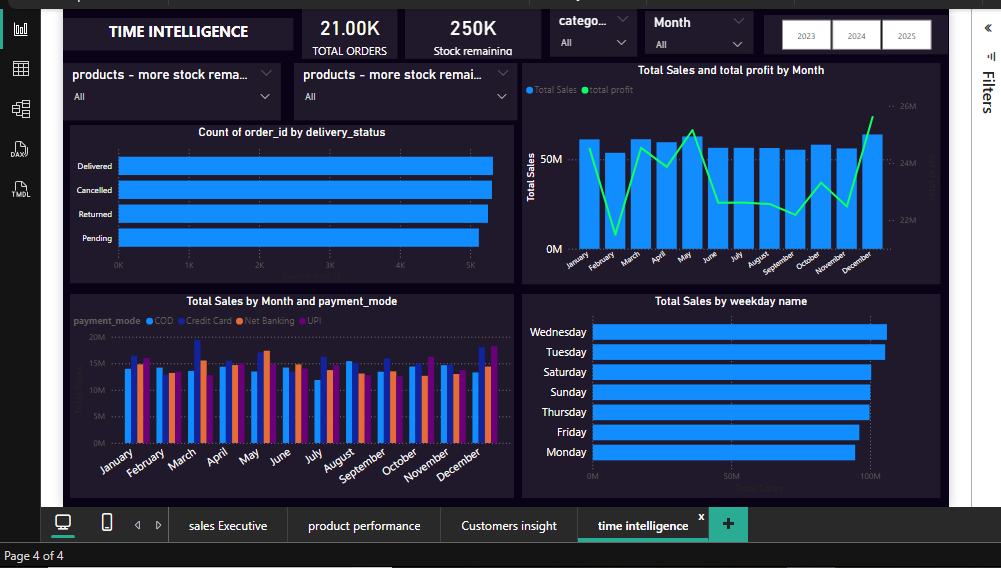

What the dashboard file says about the page in this screenshot:
{"tool":"powerbi","page":{"name":"time intelligence","canvas":[1280,720],"ordinal":3},"visuals":[{"type":"textbox","box":[0,13.5,333.5,47.2],"z":0},{"type":"slicer","fields":{"Values":["orders.order_date.Variation.Date Hierarchy.Year"]},"box":[1013.9,8.4,266.1,57.3],"z":1000},{"type":"lineStackedColumnComboChart","fields":{"Category":["orders.order_date.Variation.Date Hierarchy.Month"],"Y":["order_items.Total Sales"],"Y2":["category.total profit"]},"box":[663.6,77.5,604.6,320],"z":2000},{"type":"clusteredBarChart","fields":{"Y":["order_items.Total Sales"],"Category":["orders.weekday name"]},"box":[663.6,412.6,604.6,294.7],"z":3000},{"type":"card","fields":{"Values":["CountNonNull(orders.order_id)"]},"box":[345.3,0,138.1,72.4],"z":4000},{"type":"barChart","fields":{"Category":["shipping.delivery_status"],"Y":["CountNonNull(orders.order_id)"]},"box":[10.1,168.4,641.7,229.1],"z":5000},{"type":"clusteredColumnChart","fields":{"Category":["orders.order_date.Variation.Date Hierarchy.Month"],"Y":["order_items.Total Sales"],"Series":["payments.payment_mode"]},"box":[10.1,412.6,641.7,294.7],"z":6000},{"type":"slicer","fields":{"Values":["orders.order_date.Variation.Date Hierarchy.Month"]},"box":[842.1,3.4,156.6,62.3],"z":7000},{"type":"slicer","fields":{"Values":["products.product_name","inventory.product_id","inventory.stock_remaining"]},"box":[0,77.5,314.9,82.5],"z":8000},{"type":"card","fields":{"Values":["Sum(inventory.stock_remaining)"]},"box":[495.2,0,197.1,72.4],"z":9000},{"type":"slicer","fields":{"Values":["products.product_name","inventory.product_id","inventory.stock_remaining"]},"box":[333.5,77.5,323.4,82.5],"z":10000},{"type":"slicer","fields":{"Values":["category.category_name"]},"box":[704,0,126.3,69.1],"z":11000}]}

Visuals, with their boxes on the page's 1280x720 design canvas (x1, y1, x2, y2). These are canvas units, not pixel positions in the 1001x568 screenshot, which may show the page scaled, cropped or inside an application window:
textbox: l=0, t=14, r=334, b=61
slicer - orders.order_date.Variation.Date Hierarchy.Year: l=1014, t=8, r=1280, b=66
lineStackedColumnComboChart - orders.order_date.Variation.Date Hierarchy.Month x order_items.Total Sales: l=664, t=78, r=1268, b=398
clusteredBarChart - order_items.Total Sales x orders.weekday name: l=664, t=413, r=1268, b=707
card - CountNonNull(orders.order_id): l=345, t=0, r=483, b=72
barChart - shipping.delivery_status x CountNonNull(orders.order_id): l=10, t=168, r=652, b=398
clusteredColumnChart - orders.order_date.Variation.Date Hierarchy.Month x order_items.Total Sales: l=10, t=413, r=652, b=707
slicer - orders.order_date.Variation.Date Hierarchy.Month: l=842, t=3, r=999, b=66
slicer - products.product_name x inventory.product_id: l=0, t=78, r=315, b=160
card - Sum(inventory.stock_remaining): l=495, t=0, r=692, b=72
slicer - products.product_name x inventory.product_id: l=334, t=78, r=657, b=160
slicer - category.category_name: l=704, t=0, r=830, b=69
